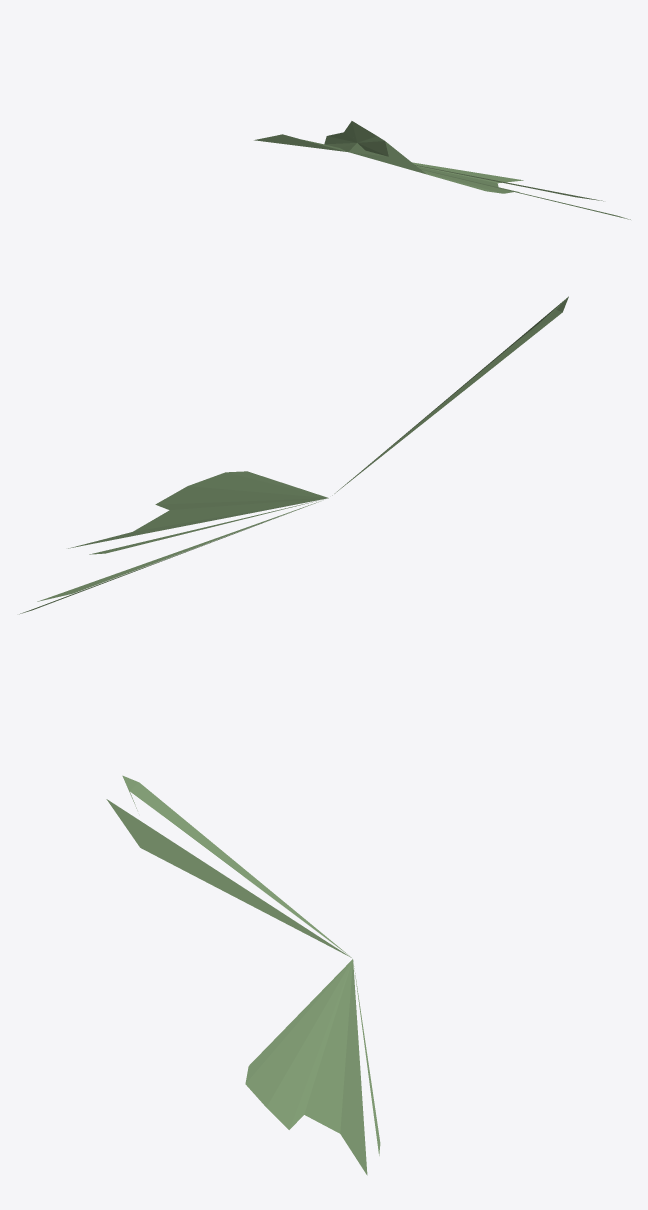
Rendered from c_1664_17816_parks.glb.
The picture shows the model from 3 angles, top to bottom: view 1: azimuth 30°, elevation 25°; view 2: azimuth 150°, elevation 25°; view 3: azimuth 270°, elevation 25°; orthographic projection. The views are drawn at different scales.
Visible parts, largest first — view 1: geometry_0; view 2: geometry_0; view 3: geometry_0.
Part boxes in pixels (box(x1,y1,x2,y2)): geometry_0: box(254, 121, 630, 219); geometry_0: box(19, 296, 568, 614); geometry_0: box(106, 775, 380, 1175).
Bounding box in the file's own units: 356 × 153 × 320.
